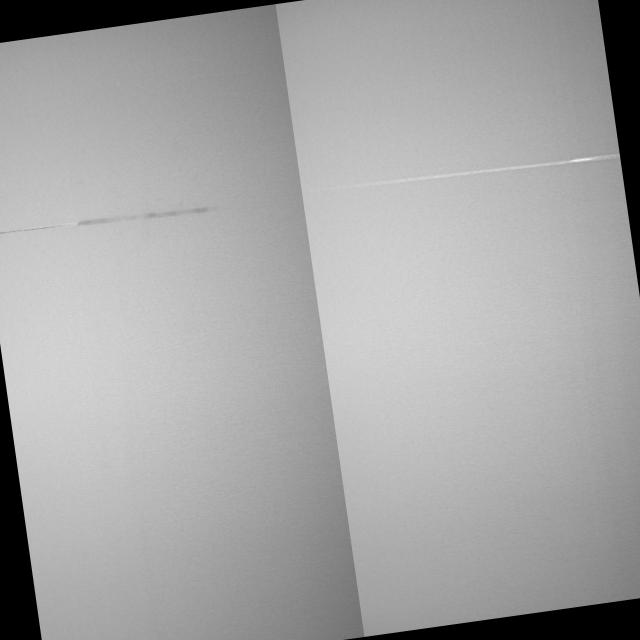Stain: (74, 200, 218, 232)
Warp_Weft: (334, 144, 620, 197), (0, 218, 77, 239)
